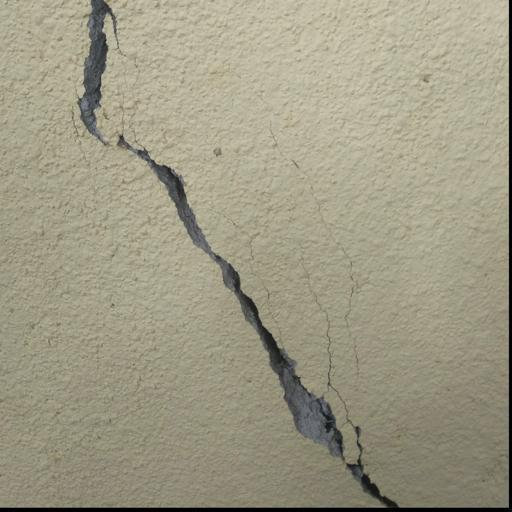major_crack: (60, 0, 411, 512)
